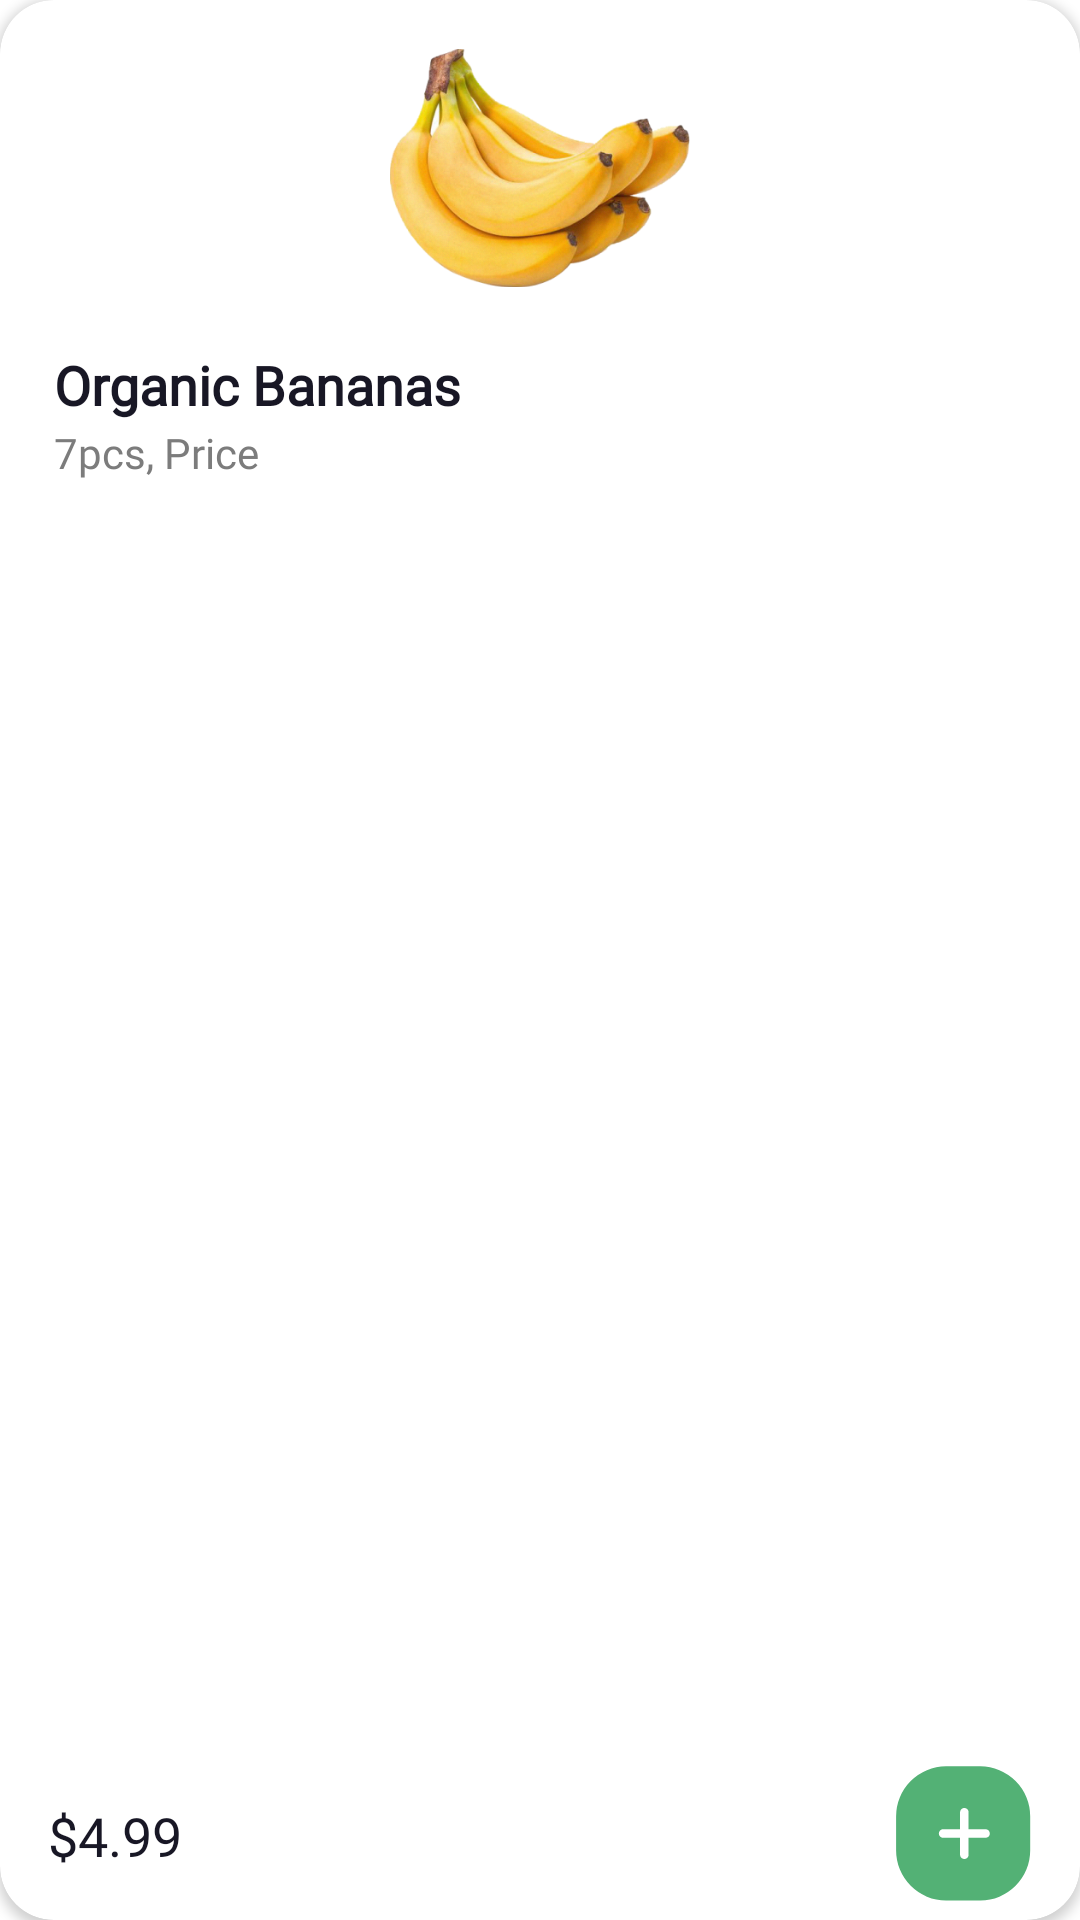

Icon click points for this 1080w x 1920h phone screenshot, format [x,y]:
add: [963,1833]
